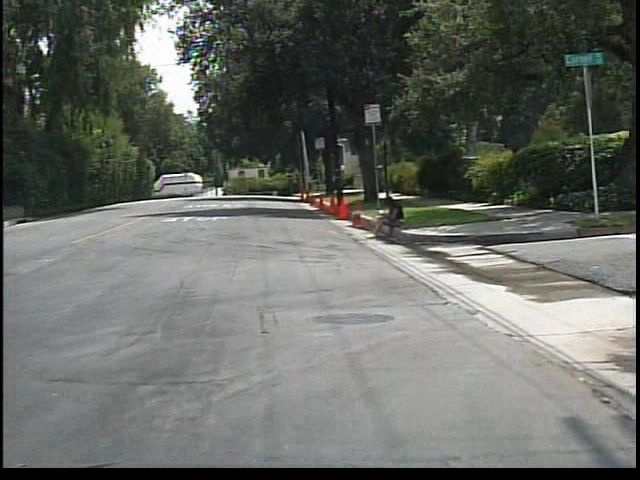person: (365, 191, 417, 244)
